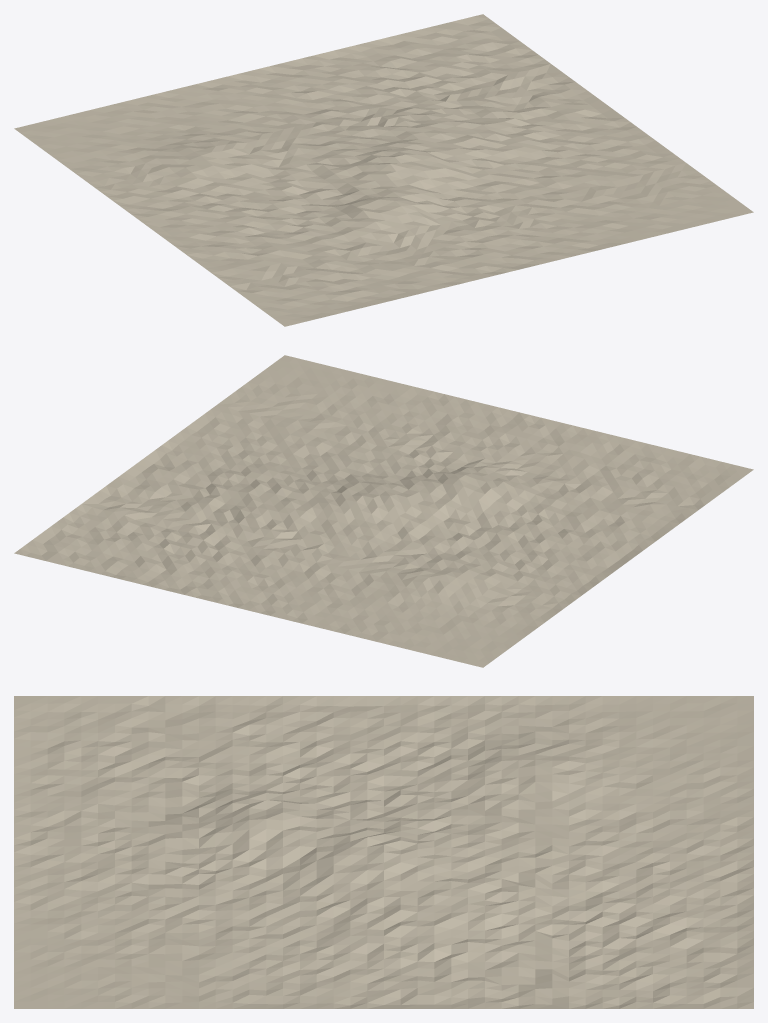
File: Ground_m_08.fbx
3 renders of one model, top to bottom at view 1: azimuth 30°, elevation 25°; view 2: azimuth 150°, elevation 25°; view 3: azimuth 270°, elevation 25°, orthographic. The views are drawn at different scales.
Parts seen in each view (by area): view 1: Ground_m_08; view 2: Ground_m_08; view 3: Ground_m_08.
Boxes of the visible parts, <box> form: Ground_m_08: <box>14,14,753,326</box>; Ground_m_08: <box>14,355,753,667</box>; Ground_m_08: <box>14,696,753,1008</box>.
Size of the model in its own units: 10000 by 309 by 10000.
